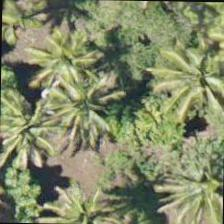Kelapa_Sawit: (18, 14, 110, 106), (157, 40, 223, 133), (162, 138, 223, 223)
